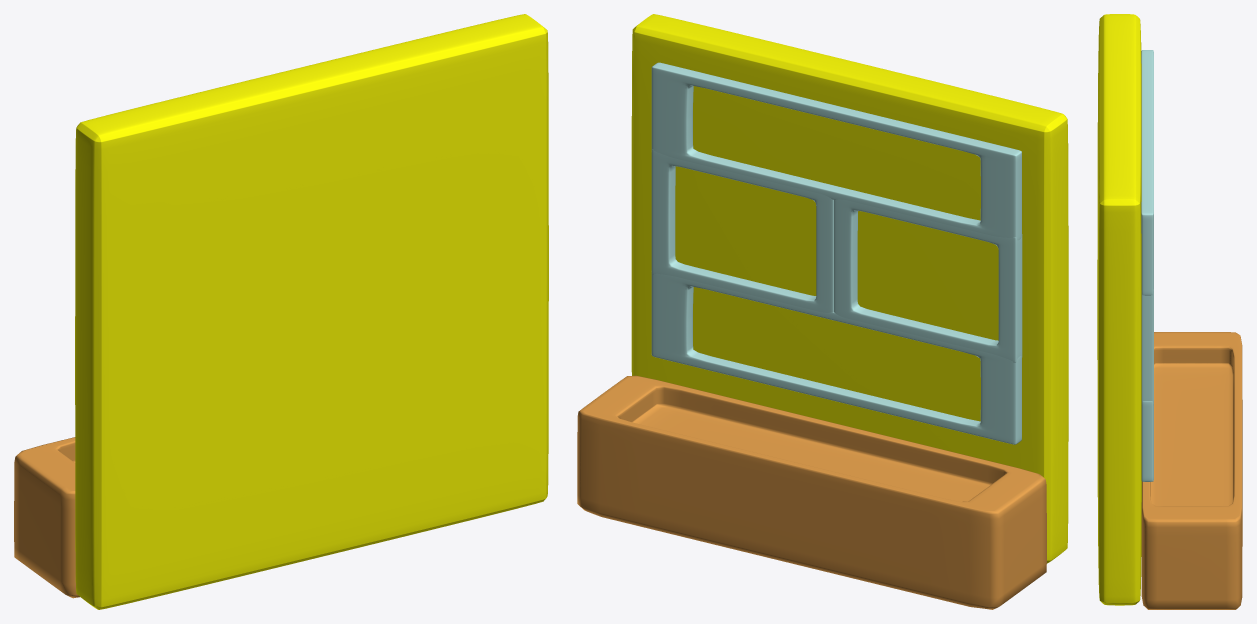
The picture shows the model from 3 angles, left to right: view 1: azimuth 30°, elevation 25°; view 2: azimuth 150°, elevation 25°; view 3: azimuth 270°, elevation 25°; orthographic projection. The views are drawn at different scales.
Parts seen in each view (by area): view 1: polySurface1436; view 2: polySurface1436; view 3: polySurface1436.
Part boxes in pixels (x1,y1,x2,y2): polySurface1436: [14, 14, 548, 609]; polySurface1436: [577, 14, 1068, 609]; polySurface1436: [1097, 14, 1242, 609].
Size of the model in its own units: 1 by 1.01 by 0.3215.
